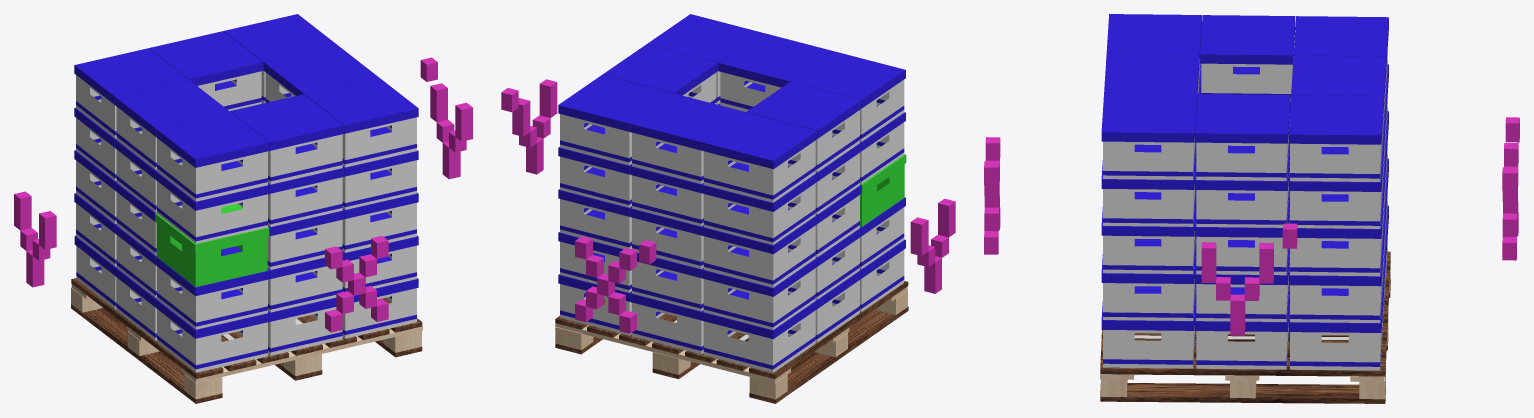
The picture shows the model from 3 angles, left to right: view 1: azimuth 30°, elevation 25°; view 2: azimuth 150°, elevation 25°; view 3: azimuth 270°, elevation 25°; orthographic projection. The views are drawn at different scales.
Visible parts, largest first — view 1: CajaVerde, Cube.031_1, Cube.033_1, Cube.026_1, Cube.032_1, Cube.029_1, Cube.030_1, Cube.027_1, Cube.020_0, Cube.031_0, Cube.012_0, Cube.039_0 (+52 smaller); view 2: Cube.029_1, Cube.028_1, Cube.032_1, Cube.033_1, Cube.030_1, Cube.031_1, Cube.027_1, Cube.007_0, Cube.029_0, Cube.022_0, Cube.014_0, Cube.037_0 (+53 smaller); view 3: Cube.028_1, Cube.027_1, Cube.026_1, Cube.030_1, Cube055, Cube.032_1, Cube.029_1, Cube.031_1, Cube.033_1, Cube.001_0, Cube.003_0, Cube.002_0 (+33 smaller).
Boxes of the visible parts, x1,y1,x2,y2 form: CajaVerde: [155, 203, 269, 286]; Cube.031_1: [155, 111, 269, 198]; Cube.033_1: [230, 94, 344, 181]; Cube.026_1: [304, 77, 418, 164]; Cube.032_1: [149, 31, 263, 109]; Cube.029_1: [74, 48, 188, 135]; Cube.030_1: [115, 80, 228, 166]; Cube.027_1: [264, 45, 377, 102]; Cube.020_0: [157, 309, 267, 372]; Cube.031_0: [157, 138, 267, 201]; Cube.012_0: [157, 266, 267, 329]; Cube.039_0: [157, 181, 267, 243]; Cube.029_1: [702, 112, 817, 199]; Cube.028_1: [558, 75, 673, 162]; Cube.032_1: [630, 93, 745, 180]; Cube.033_1: [718, 32, 833, 109]; Cube.030_1: [746, 81, 861, 169]; Cube.031_1: [790, 51, 905, 138]; Cube.027_1: [602, 44, 717, 103]; Cube.007_0: [703, 310, 815, 372]; Cube.029_0: [703, 140, 815, 202]; Cube.022_0: [703, 225, 815, 287]; Cube.014_0: [703, 268, 815, 329]; Cube.037_0: [703, 183, 815, 244]; Cube.028_1: [1288, 95, 1383, 178]; Cube.027_1: [1195, 94, 1290, 177]; Cube.026_1: [1101, 93, 1196, 176]; Cube.030_1: [1200, 15, 1295, 98]; Cube055: [1100, 383, 1385, 403]; Cube.032_1: [1291, 55, 1386, 137]; Cube.029_1: [1293, 16, 1388, 95]; Cube.031_1: [1106, 14, 1201, 93]; Cube.033_1: [1104, 53, 1199, 98]; Cube.001_0: [1103, 325, 1195, 368]; Cube.003_0: [1290, 318, 1382, 370]; Cube.002_0: [1196, 317, 1288, 369].
Bounding box in the file's own units: 4.24 × 2.33 × 4.23.
Materials: 82 (2 with a texture image).
